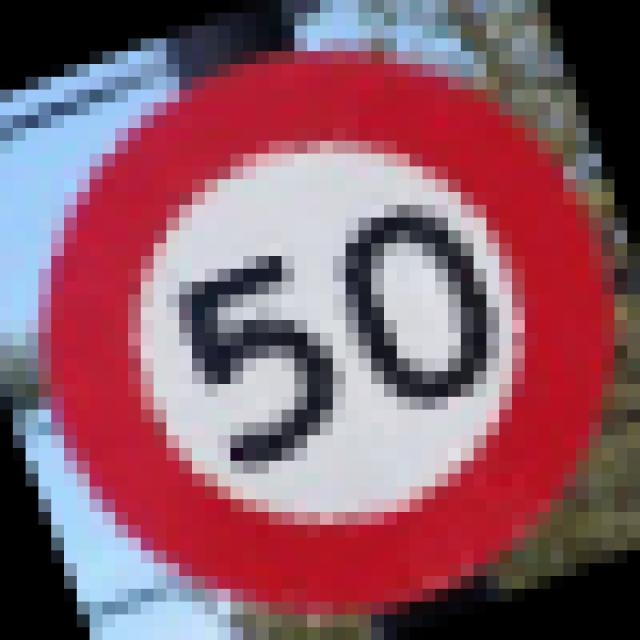Limite-50: (34, 42, 616, 611)
